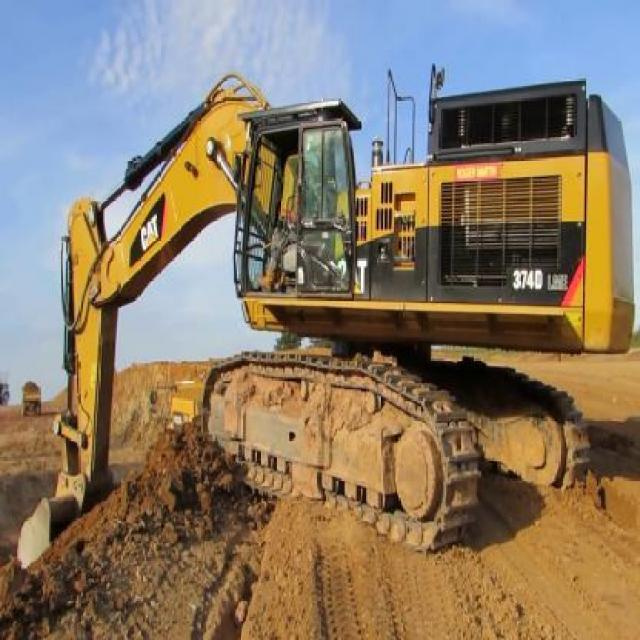Excavator: (13, 57, 635, 581)
